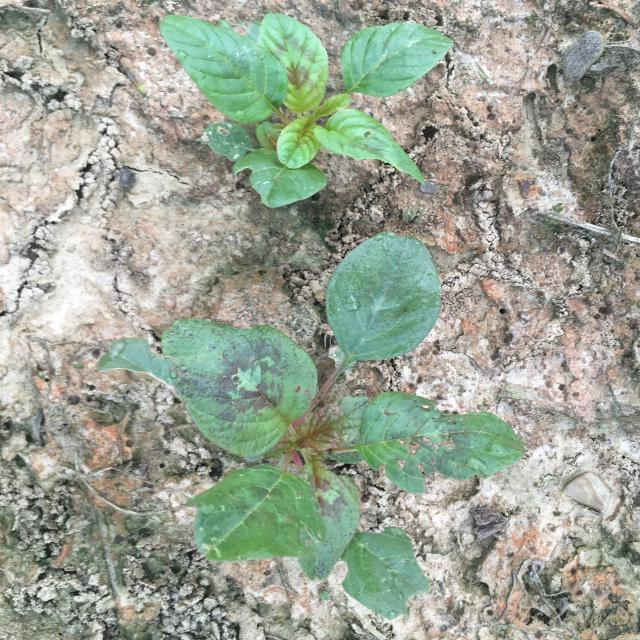PalmerAmaranth: (98, 232, 527, 618), (158, 12, 454, 209)
